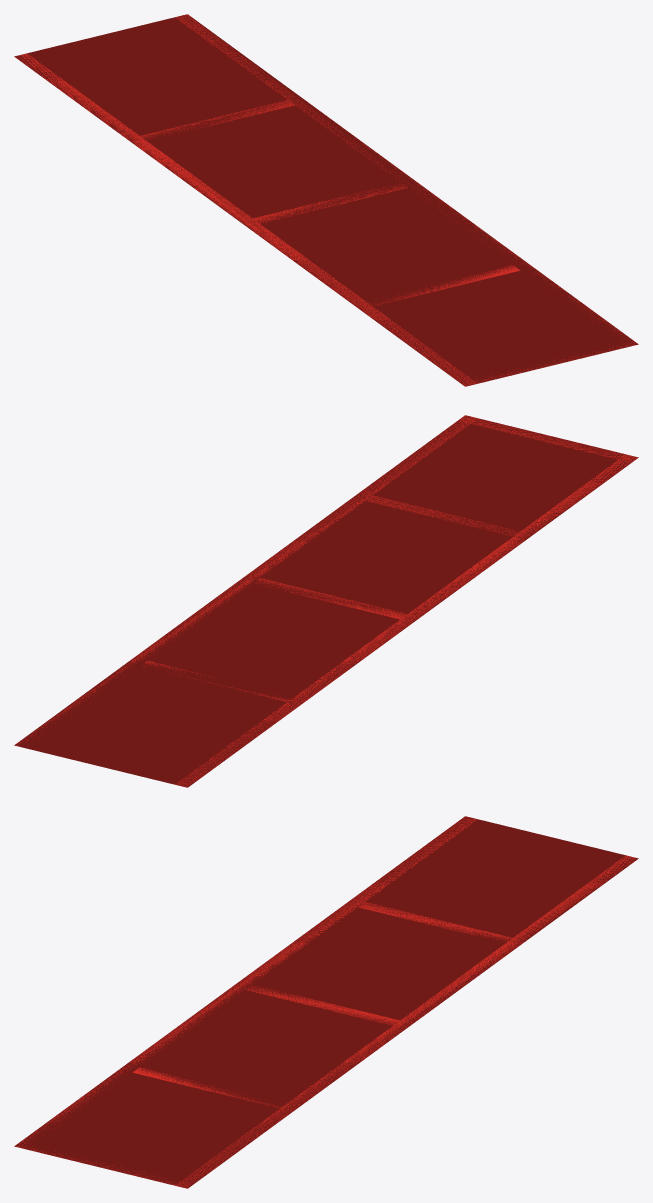
The model's file is telegraph_lane.glb.
The picture shows the model from 3 angles, top to bottom: view 1: azimuth 30°, elevation 25°; view 2: azimuth 150°, elevation 25°; view 3: azimuth 330°, elevation 25°; orthographic projection.
Parts seen in each view (by area): view 1: telegraph_lane; view 2: telegraph_lane; view 3: telegraph_lane.
Part boxes in pixels (<box>): telegraph_lane: <box>14,14,638,386</box>; telegraph_lane: <box>14,415,638,787</box>; telegraph_lane: <box>14,816,638,1188</box>.
Bounding box in the file's own units: 1.6 × 0 × 7.2.
1 material, 1 textured.
